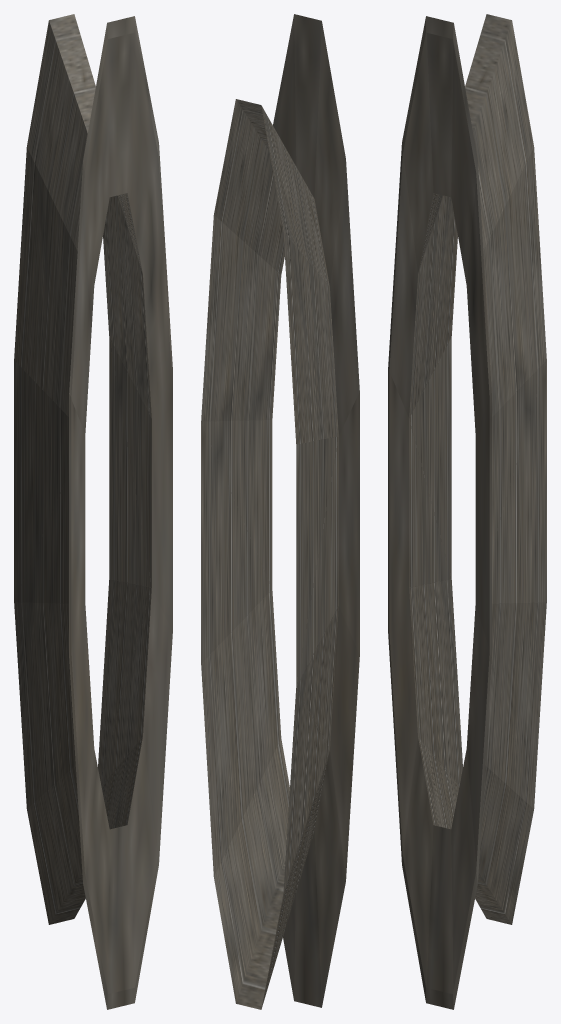
Rendered from pillar.obj.
3 views of the same model, side by side, from view 1: azimuth 30°, elevation 25°; view 2: azimuth 150°, elevation 25°; view 3: azimuth 330°, elevation 25° (orthographic).
Visible parts, largest first — view 1: pillar; view 2: pillar; view 3: pillar.
Boxes of the visible parts, box(x1,y1,x2,y2) form: pillar: box(14, 14, 172, 1009); pillar: box(201, 14, 359, 1009); pillar: box(388, 14, 546, 1009).
Bounding box in the file's own units: 0.22 × 2 × 0.22.
1 material, 1 textured.
